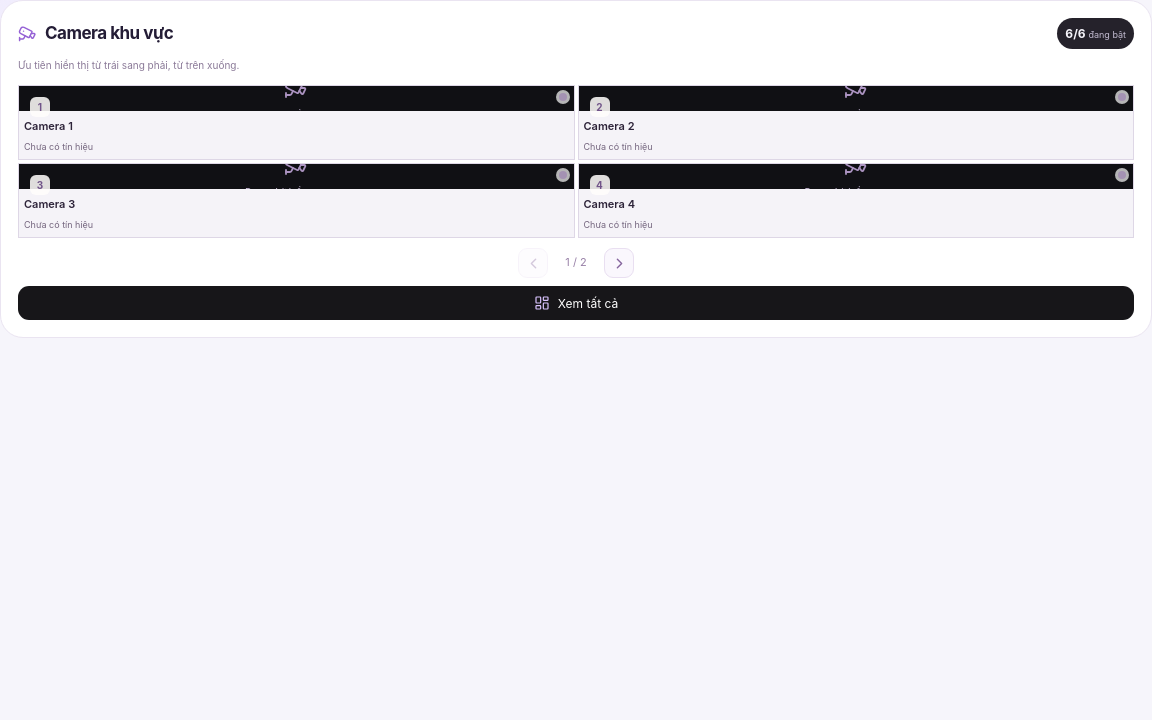
Test case: camera area manager › limits the outer panel to four, pages and opens all cameras in a separate dialog
The width and height of the screenshot is (1152, 720).
Click the button named "Trang camera sau": (619, 263) x1=604 y1=248 x2=634 y2=278
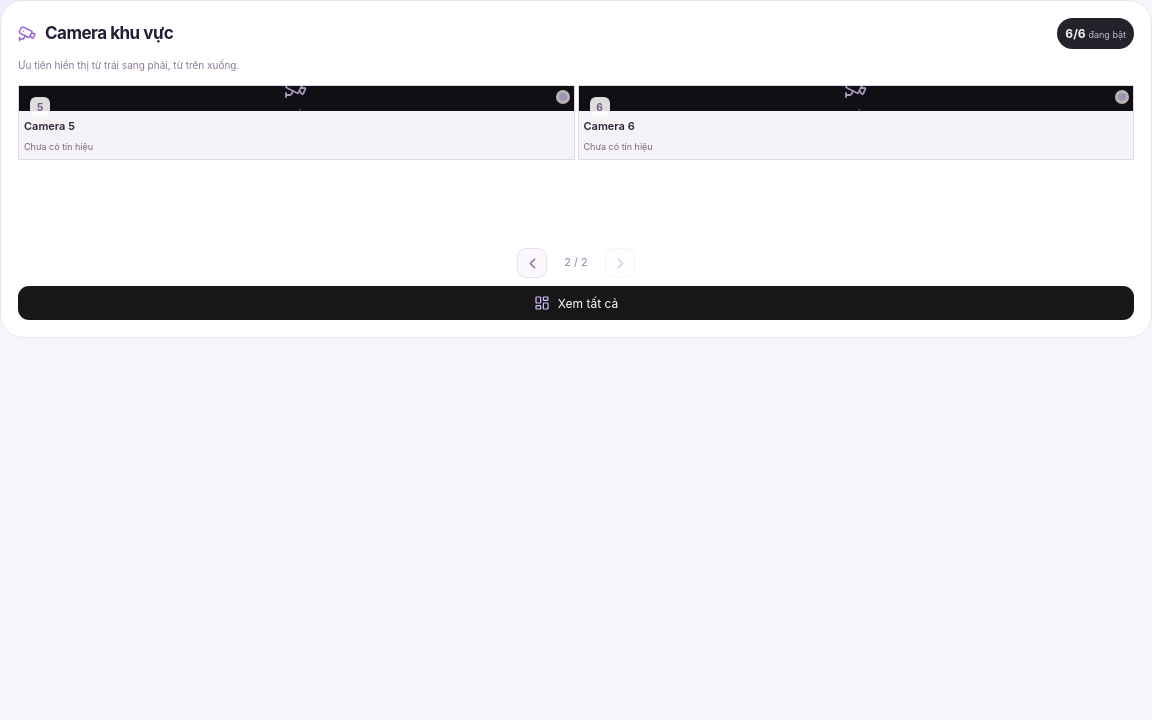
Click the button "Xem tất cả": (576, 303) x1=18 y1=286 x2=1134 y2=320
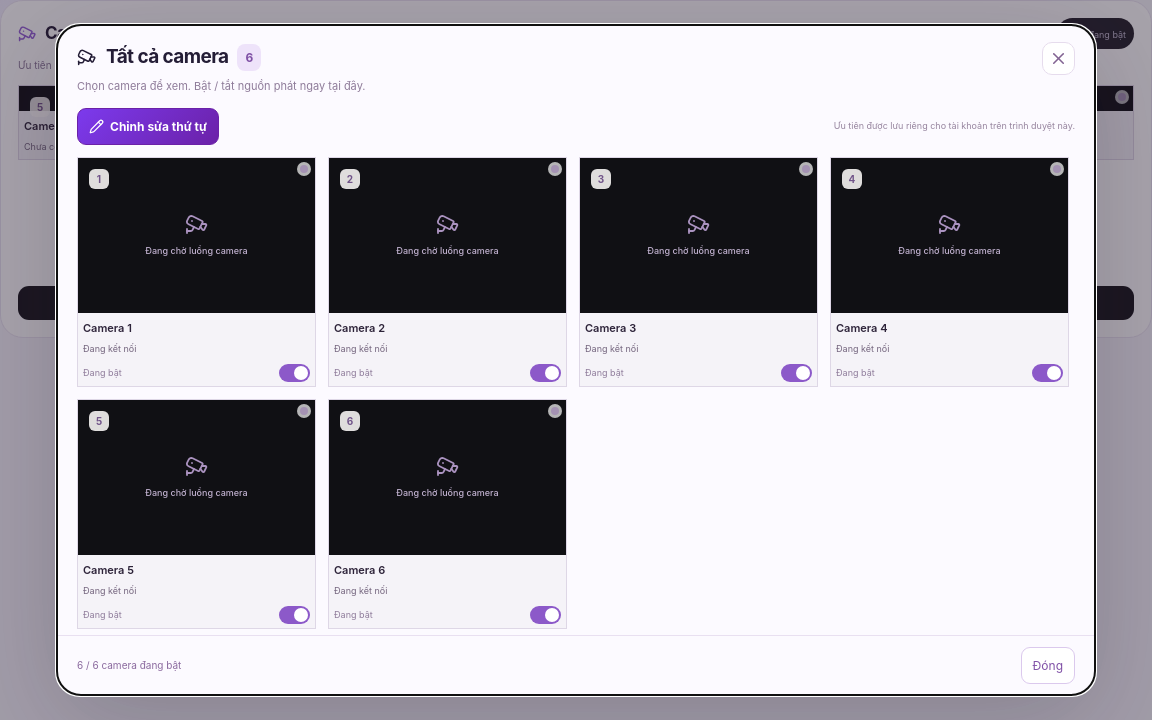
Now the number of switches is 6
Click the switch named "Bật tắt Camera 1": (294, 373) x1=279 y1=364 x2=310 y2=382
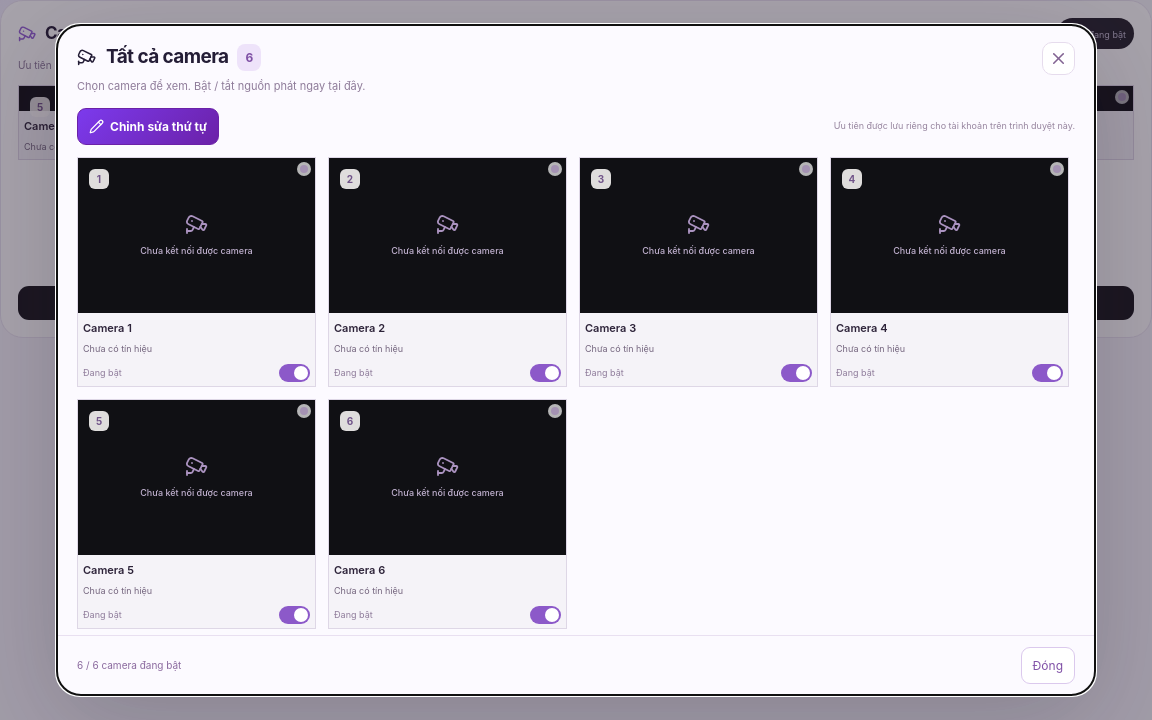
Click the button named "Đóng tất cả camera": (1058, 58) x1=1042 y1=42 x2=1075 y2=75
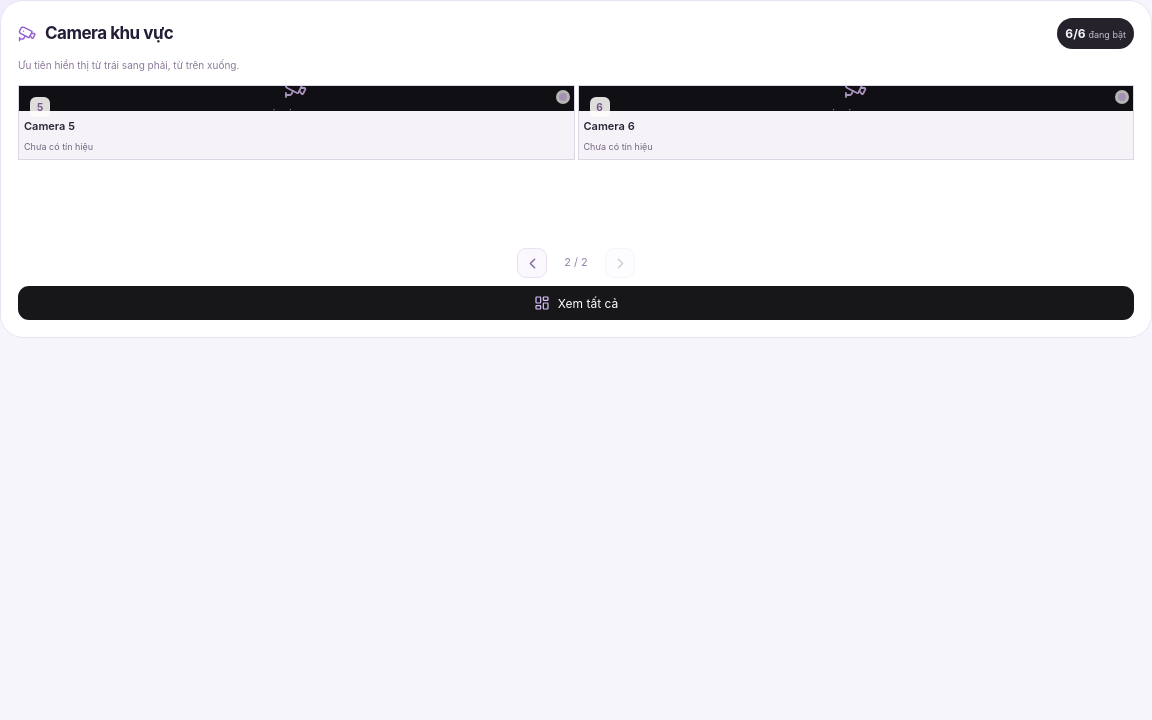
Now the dialog is gone
